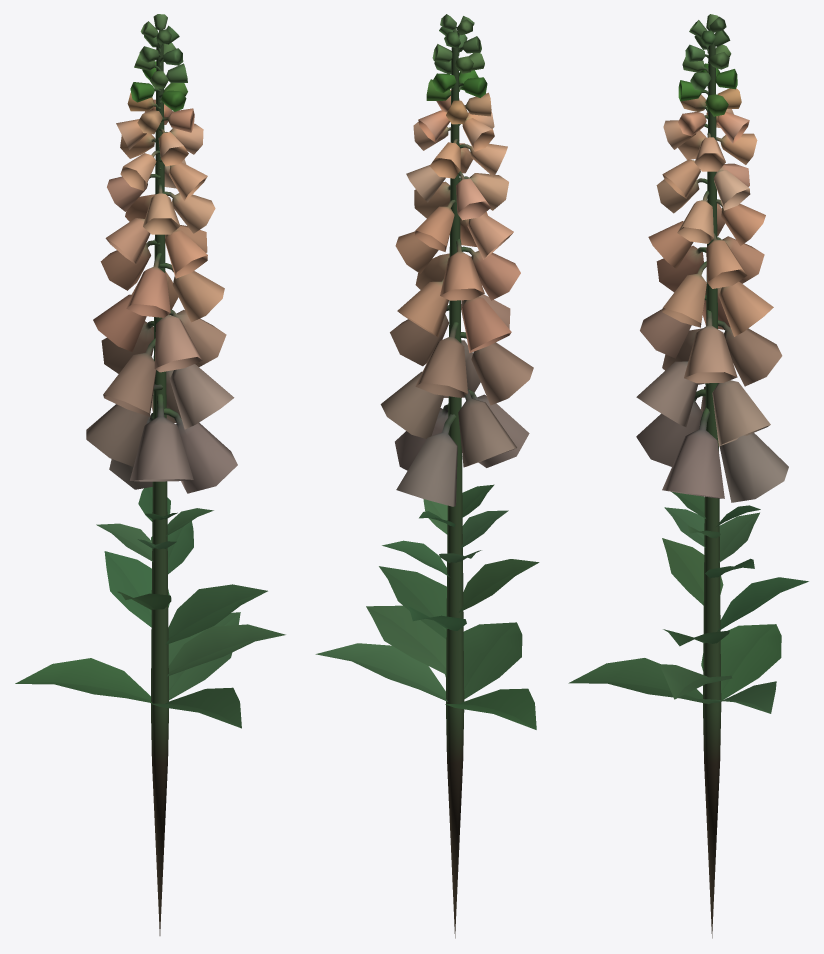
Rendered from plants-flowers-foxglove_v2.fbx.
3 renders of one model, left to right at view 1: azimuth 30°, elevation 25°; view 2: azimuth 150°, elevation 25°; view 3: azimuth 270°, elevation 25°, orthographic.
Visible parts, largest first — view 1: Foxglove_v2; view 2: Foxglove_v2; view 3: Foxglove_v2.
Boxes of the visible parts, box(x1,y1,x2,y2) form: Foxglove_v2: box(15, 14, 285, 935); Foxglove_v2: box(315, 14, 539, 938); Foxglove_v2: box(568, 14, 808, 938).
Bounding box in the file's own units: 0.3043 × 1.2 × 0.2841.
